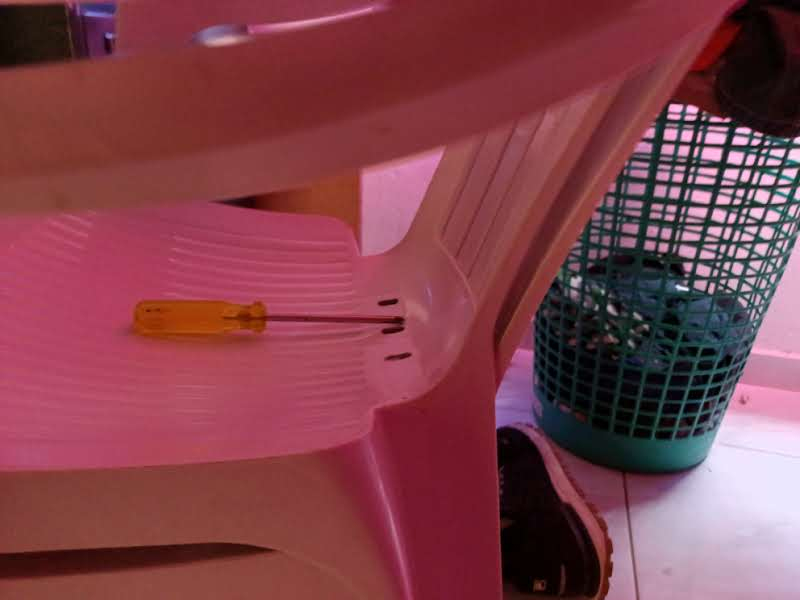Destornillador: (134, 300, 404, 335)
